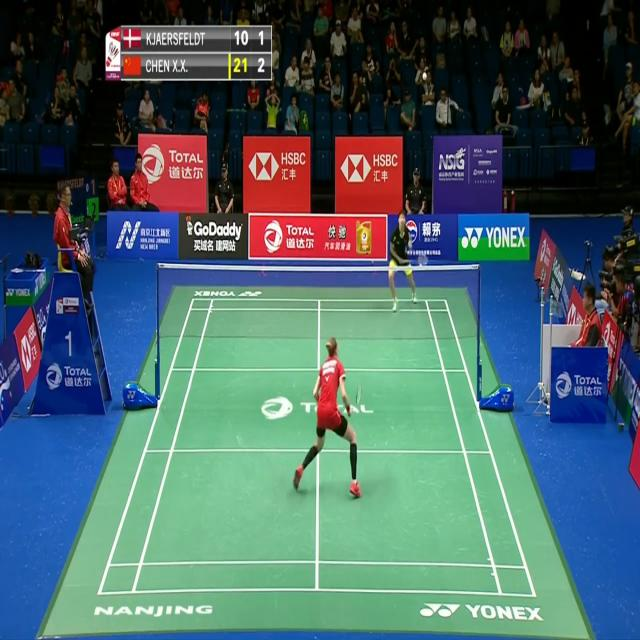Player1: (290, 336, 364, 505)
Player2: (386, 210, 431, 314)
